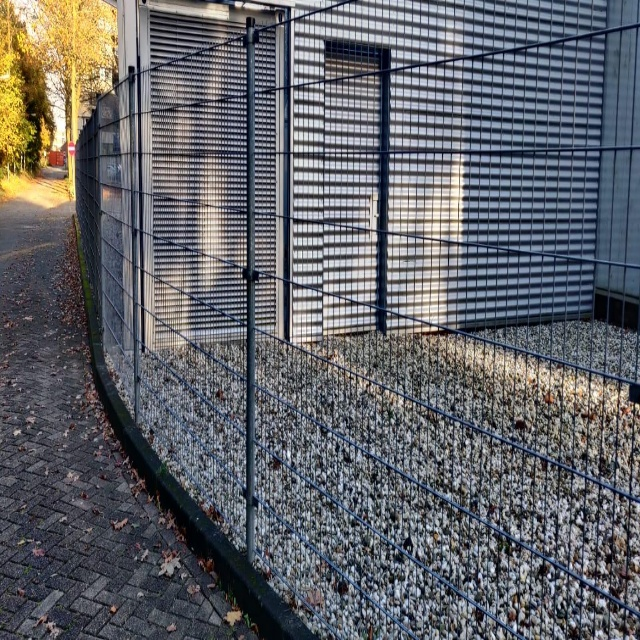obstacle: (5, 35, 640, 638)
